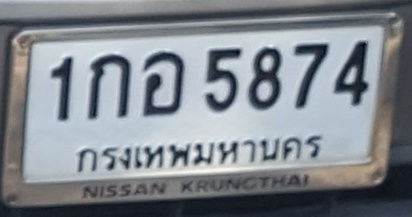num1: (47, 54, 75, 122)
txt01: (86, 52, 133, 122)
txt38: (141, 49, 187, 119)
